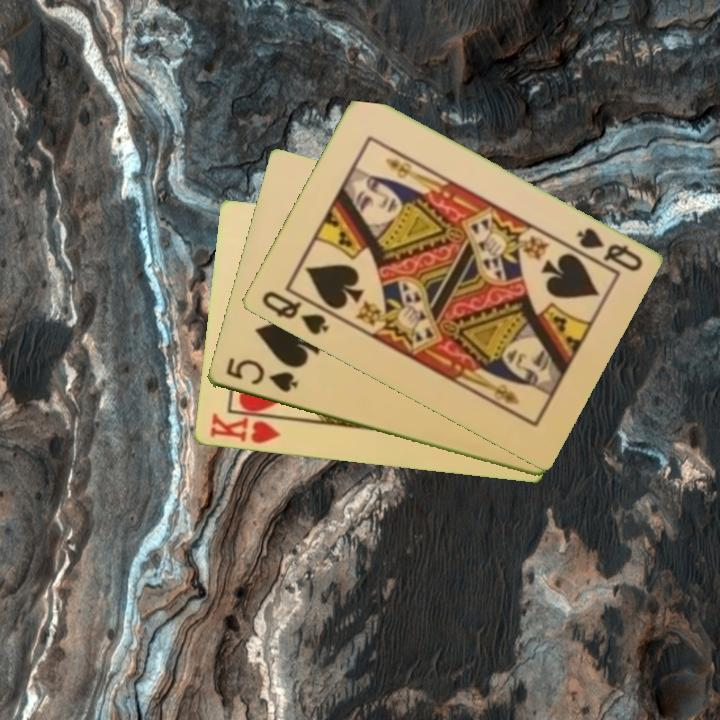5s: (222, 354, 300, 396)
Kh: (206, 410, 290, 447)
Qs: (258, 287, 332, 338), (573, 224, 645, 275)
